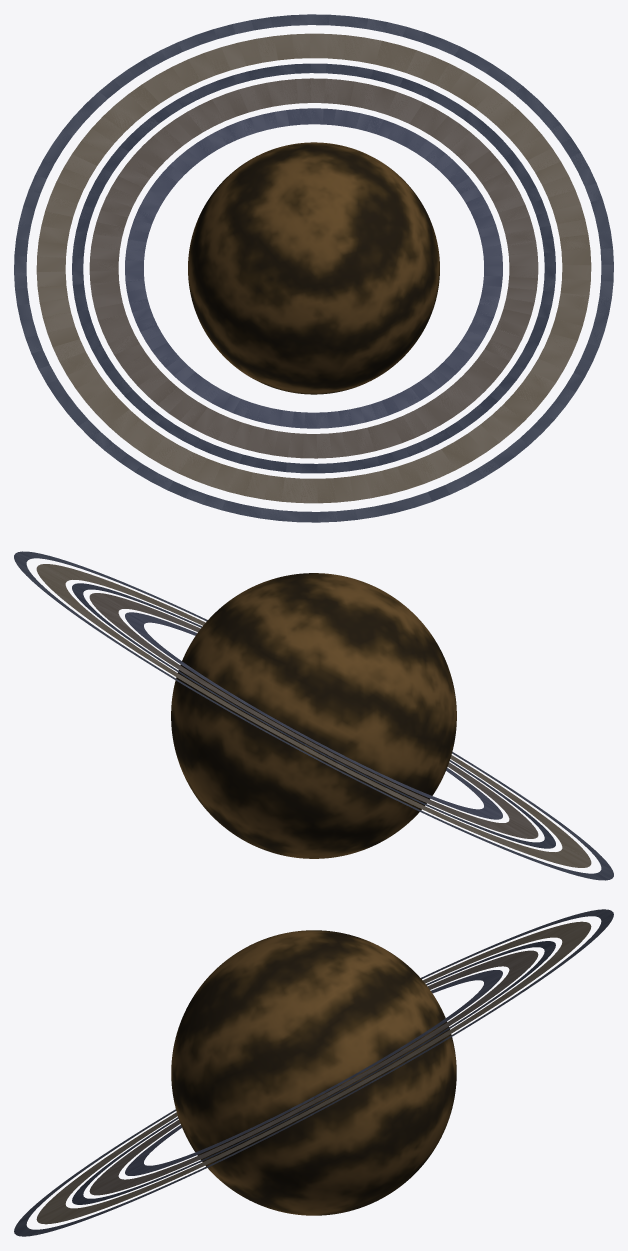
File: planet_ringed.glb
3 views of the same model, one above another, from view 1: azimuth 30°, elevation 25°; view 2: azimuth 150°, elevation 25°; view 3: azimuth 270°, elevation 25° (orthographic). The views are drawn at different scales.
Parts seen in each view (by area): view 1: PlanetRinged, Ring.003, Ring.001, Ring.004, Ring, Ring.002; view 2: PlanetRinged, Ring.003, Ring.001, Ring.004, Ring, Ring.002; view 3: PlanetRinged, Ring.003, Ring.001, Ring.004, Ring, Ring.002.
Boxes of the visible parts, left/top/right/bottom form: PlanetRinged: left=188, top=142, right=439, bottom=394; Ring.003: left=36, top=33, right=591, bottom=503; Ring.001: left=89, top=78, right=538, bottom=458; Ring.004: left=14, top=14, right=613, bottom=522; Ring: left=125, top=108, right=502, bottom=428; Ring.002: left=72, top=63, right=555, bottom=473; PlanetRinged: left=171, top=573, right=456, bottom=858; Ring.003: left=36, top=564, right=591, bottom=867; Ring.001: left=89, top=593, right=538, bottom=838; Ring.004: left=14, top=551, right=613, bottom=880; Ring: left=125, top=612, right=502, bottom=819; Ring.002: left=72, top=583, right=555, bottom=848; PlanetRinged: left=171, top=930, right=456, bottom=1215; Ring.003: left=36, top=921, right=591, bottom=1224; Ring.001: left=89, top=950, right=538, bottom=1195; Ring.004: left=14, top=909, right=613, bottom=1236; Ring: left=125, top=970, right=502, bottom=1175; Ring.002: left=72, top=941, right=555, bottom=1204.
Size of the model in its own units: 320 by 181 by 294.
